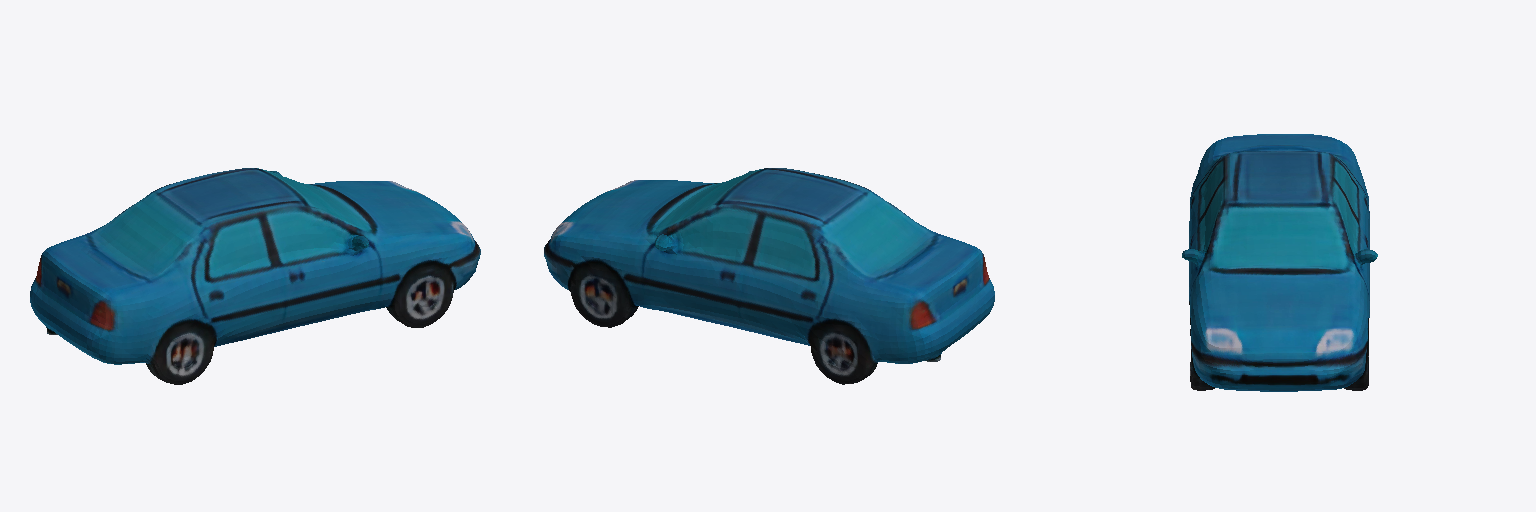
The picture shows the model from 3 angles: view 1: azimuth 30°, elevation 25°; view 2: azimuth 150°, elevation 25°; view 3: azimuth 270°, elevation 25°; orthographic projection.
Visible parts, largest first — view 1: mesh; view 2: mesh; view 3: mesh.
Boxes of the visible parts, x1=… form: mesh: x1=30, y1=168, x2=480, y2=384; mesh: x1=544, y1=168, x2=994, y2=384; mesh: x1=1182, y1=134, x2=1377, y2=391.
Bounding box in the file's own units: 1 × 0.3401 × 0.4255.
Materials: 1 (1 with a texture image).